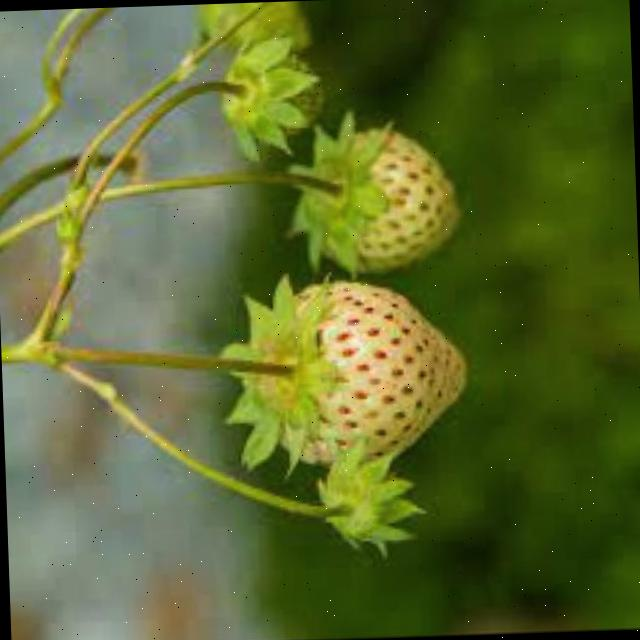strawberry: (249, 279, 471, 468), (312, 130, 460, 275), (224, 54, 322, 139)
